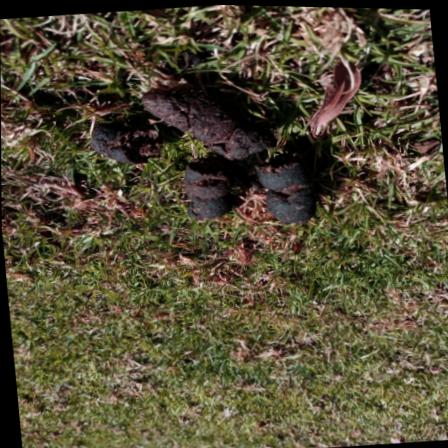dog-poop: (79, 56, 332, 247)
